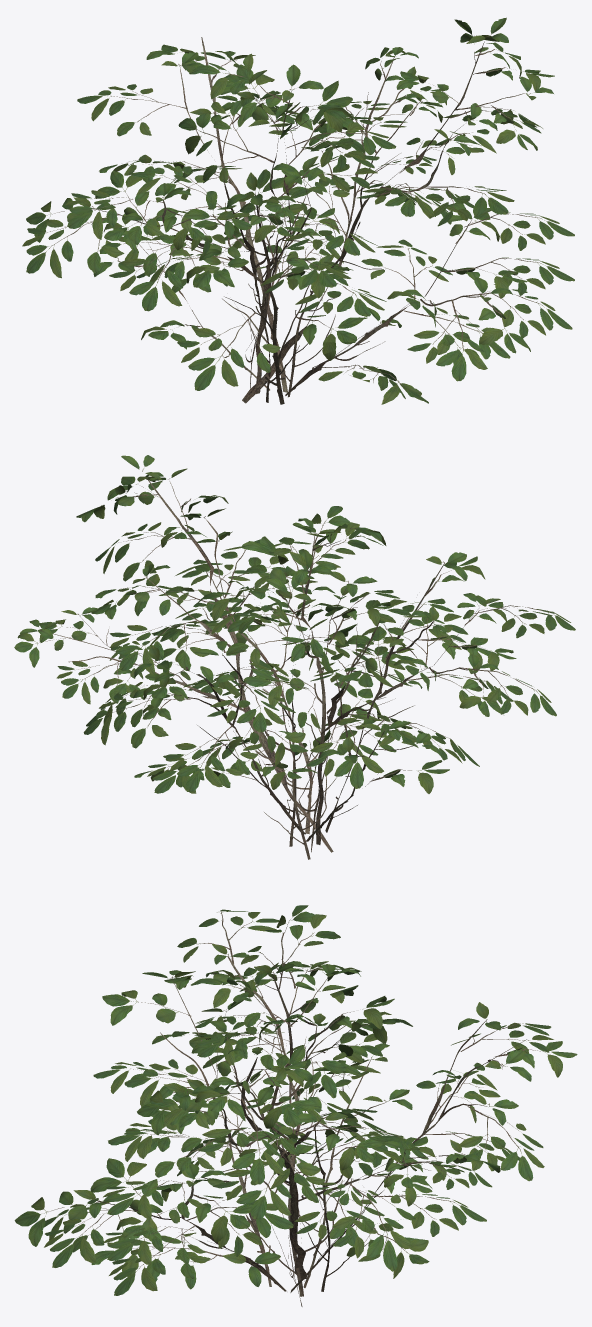
File: SM_Bush_A.fbx
3 views of the same model, one above another, from view 1: azimuth 30°, elevation 25°; view 2: azimuth 150°, elevation 25°; view 3: azimuth 270°, elevation 25° (orthographic). The views are drawn at different scales.
Parts seen in each view (by area): view 1: SM_Bush_A; view 2: SM_Bush_A; view 3: SM_Bush_A.
Boxes of the visible parts, x1,y1,x2,y2 form: SM_Bush_A: (22, 17, 574, 404); SM_Bush_A: (14, 455, 575, 859); SM_Bush_A: (14, 905, 577, 1306).
Size of the model in its own units: 207 by 146 by 197.
